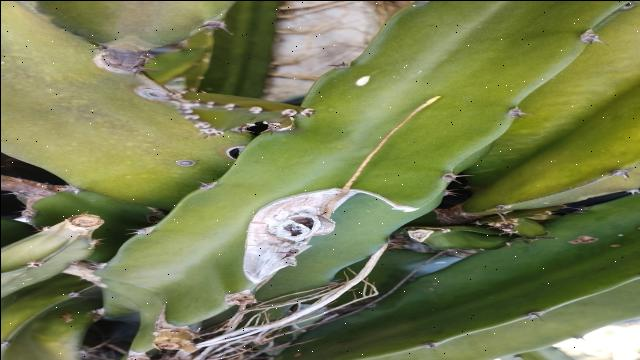stemcanker: (551, 231, 607, 249), (171, 156, 198, 169)
